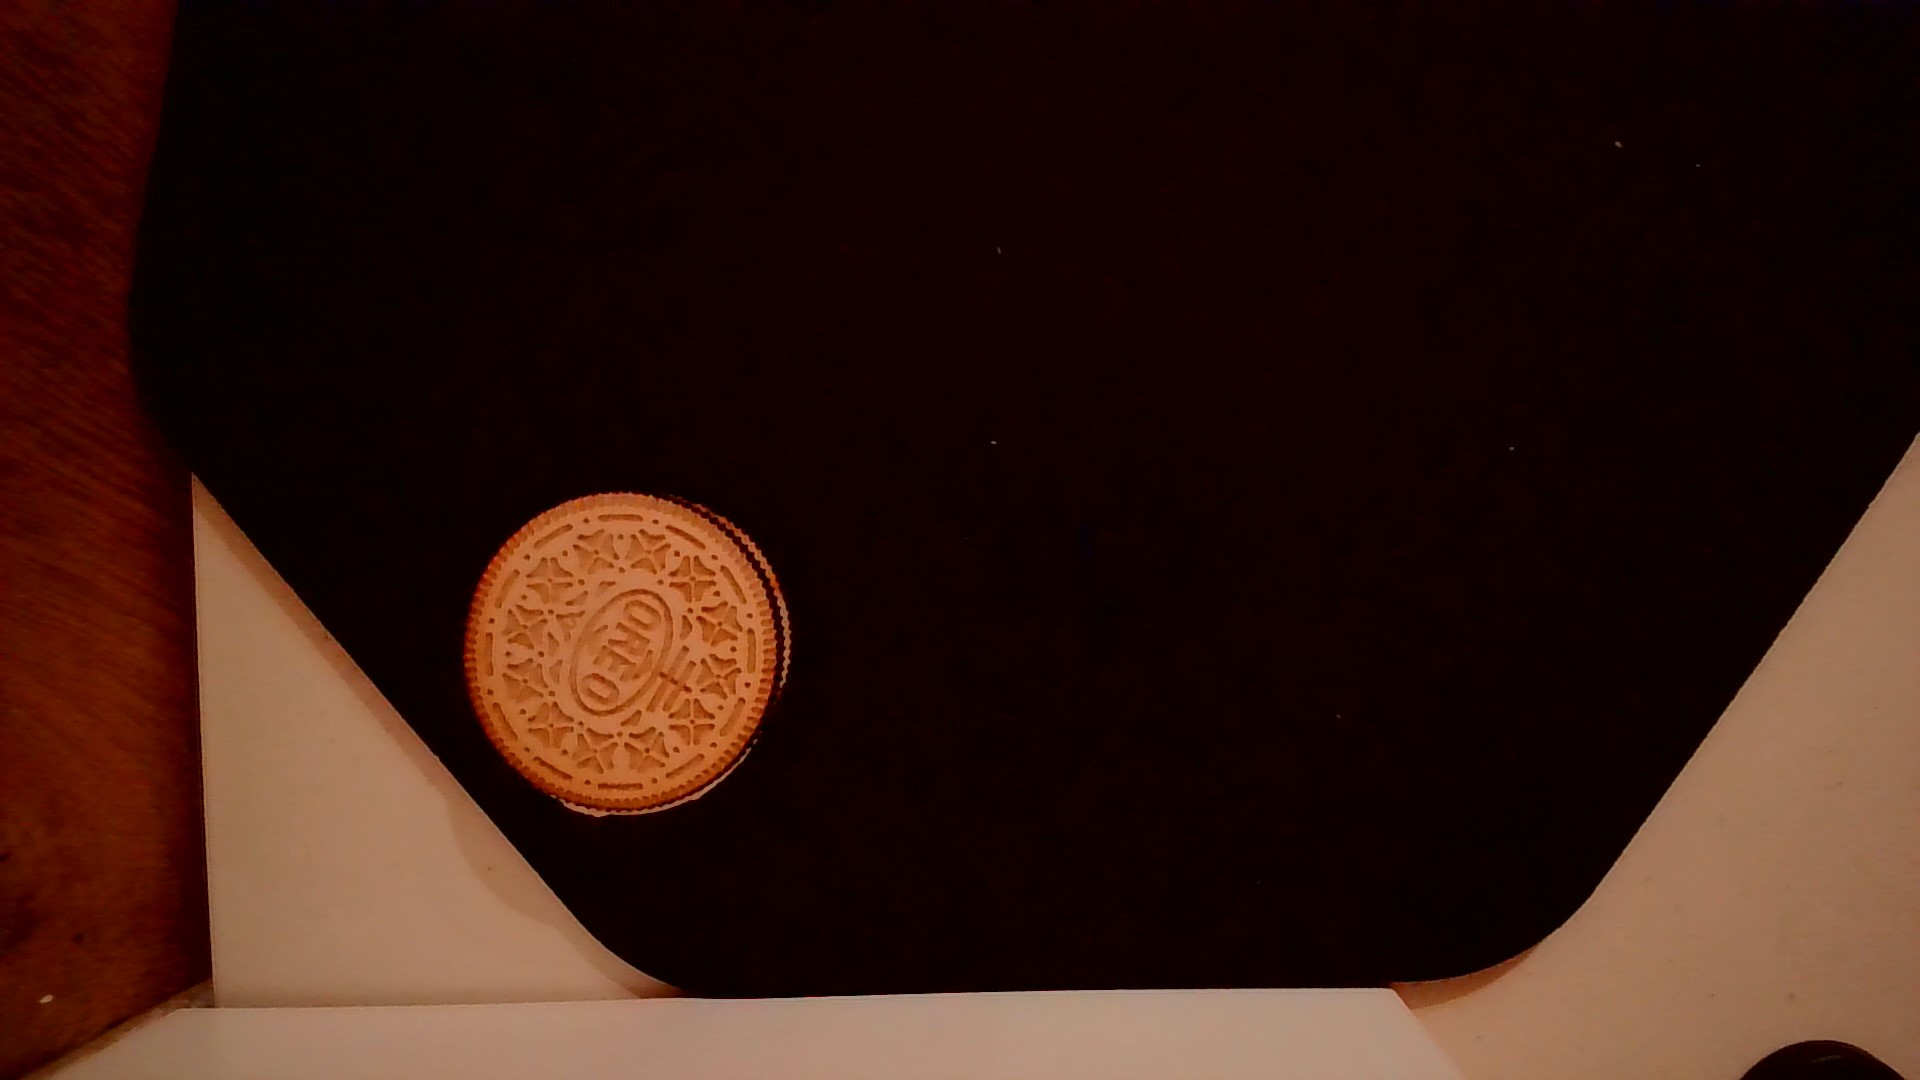Oréo: (452, 477, 800, 825)
